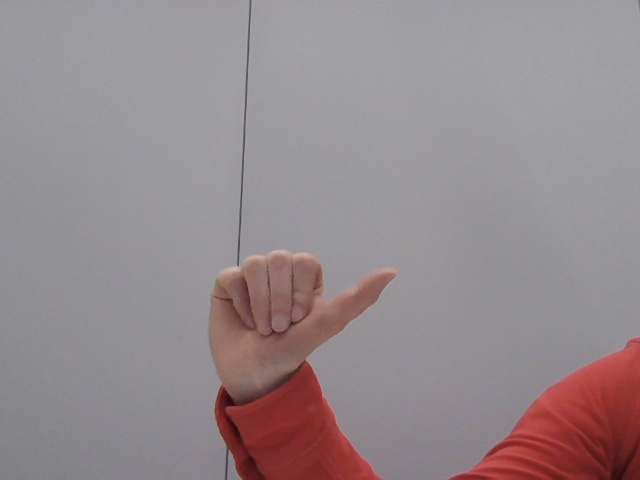left: (188, 240, 425, 409)
